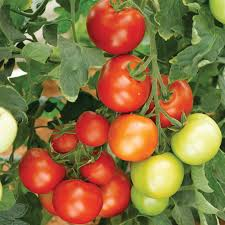tomato: (86, 1, 147, 55), (96, 55, 152, 113), (171, 112, 222, 166), (129, 152, 185, 199), (108, 112, 159, 162), (146, 73, 192, 127), (19, 148, 67, 194), (53, 180, 103, 224), (96, 166, 132, 218), (129, 183, 169, 217), (75, 109, 110, 146), (79, 150, 115, 184), (49, 121, 78, 154), (37, 190, 58, 216), (207, 1, 225, 25)
